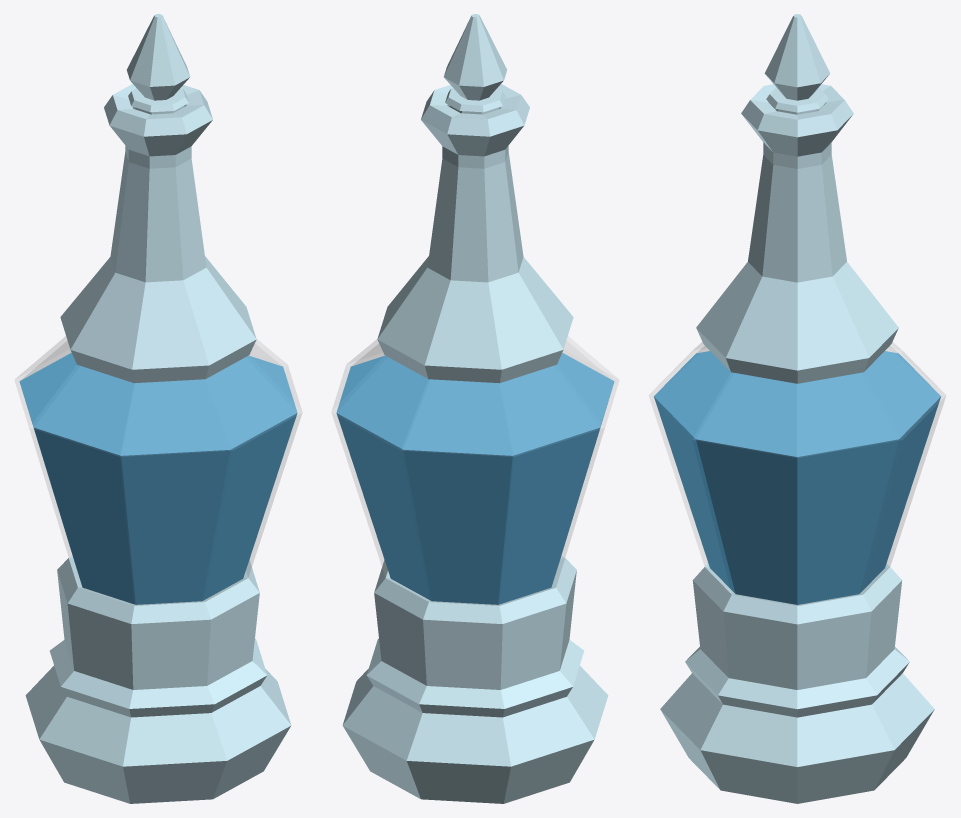
The model's file is Type_01_Blue.fbx.
The picture shows the model from 3 angles, left to right: view 1: azimuth 30°, elevation 25°; view 2: azimuth 150°, elevation 25°; view 3: azimuth 270°, elevation 25°; orthographic projection.
Parts seen in each view (by area): view 1: Type_01_Bottle, Type_01_Cork; view 2: Type_01_Bottle, Type_01_Cork; view 3: Type_01_Bottle, Type_01_Cork.
Boxes of the visible parts, x1,y1,x2,y2 form: Type_01_Bottle: [15, 84, 302, 803]; Type_01_Cork: [127, 14, 189, 114]; Type_01_Bottle: [331, 84, 618, 803]; Type_01_Cork: [444, 14, 506, 114]; Type_01_Bottle: [649, 84, 945, 803]; Type_01_Cork: [764, 14, 830, 114].
Size of the model in its own units: 15 by 41.23 by 15.
